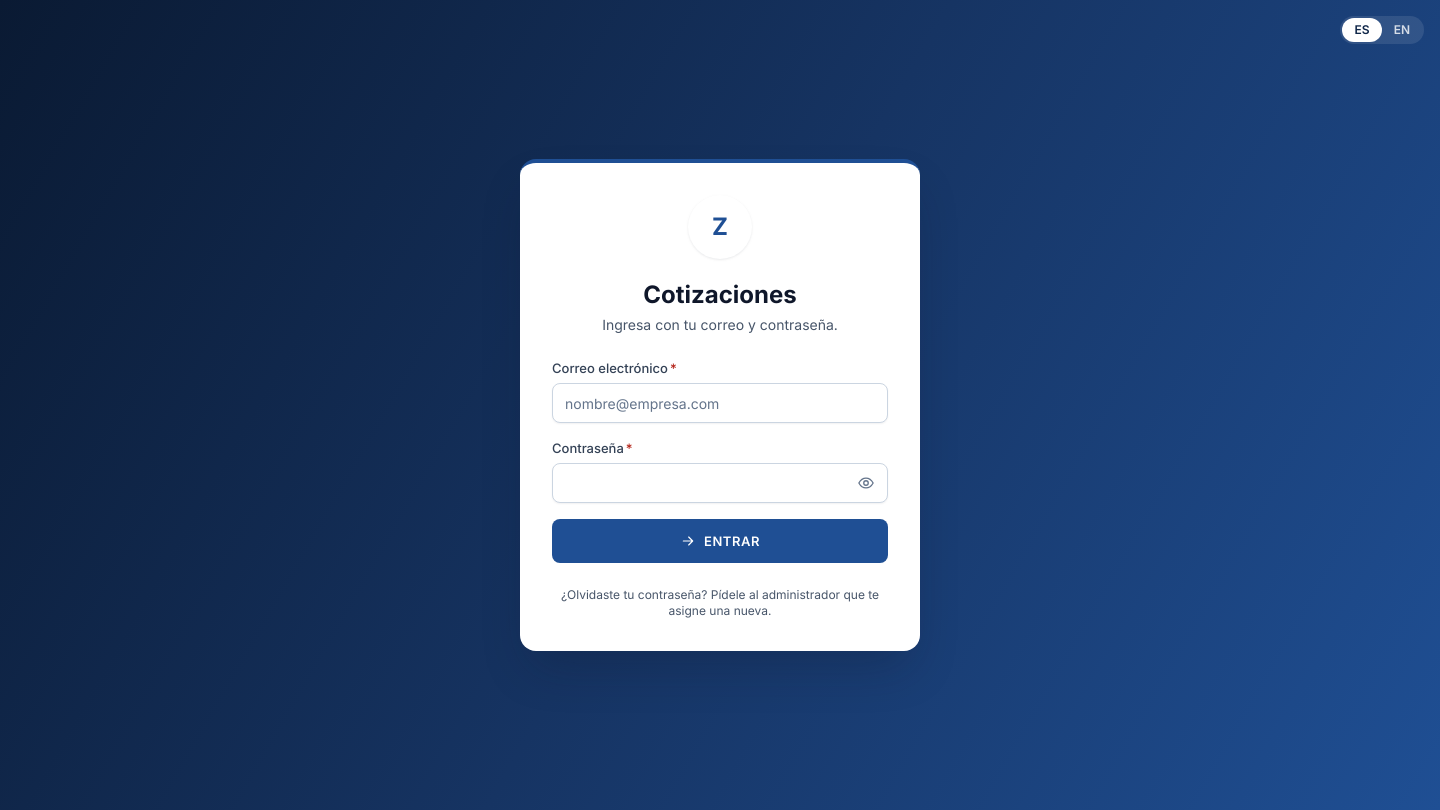
LoginPage › sends users with a temporary password to the change-password page
Type "ana@empresa.co" into the field labelled "Correo electrónico*".
click(720, 403); type("ana@empresa.co")  # box [552,383,888,423]
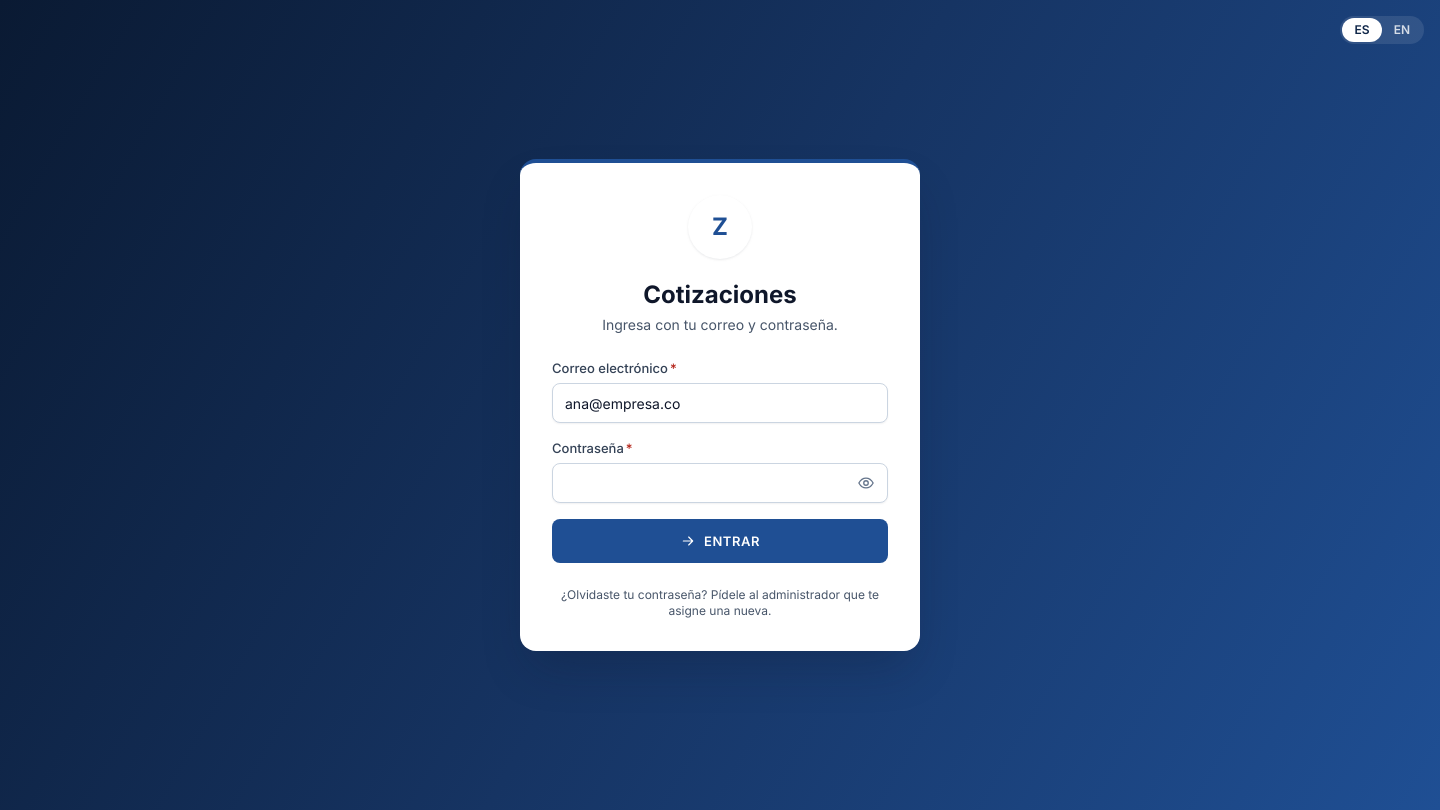
Type "temporal123" into the password field labelled "Contraseña*".
click(720, 483); type("temporal123")  # box [552,463,888,503]
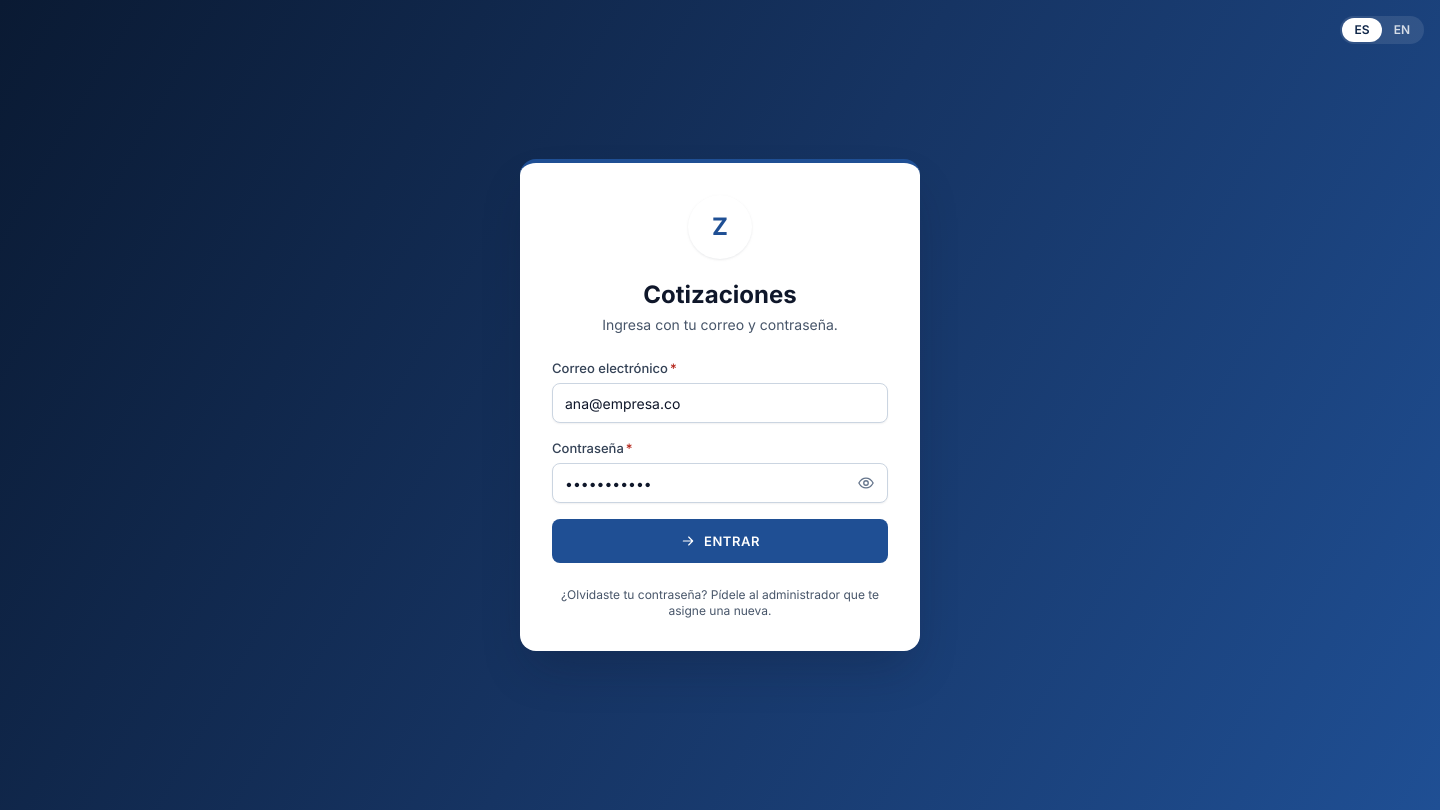
Click the button "Entrar".
click(720, 541)  # box [552,519,888,563]
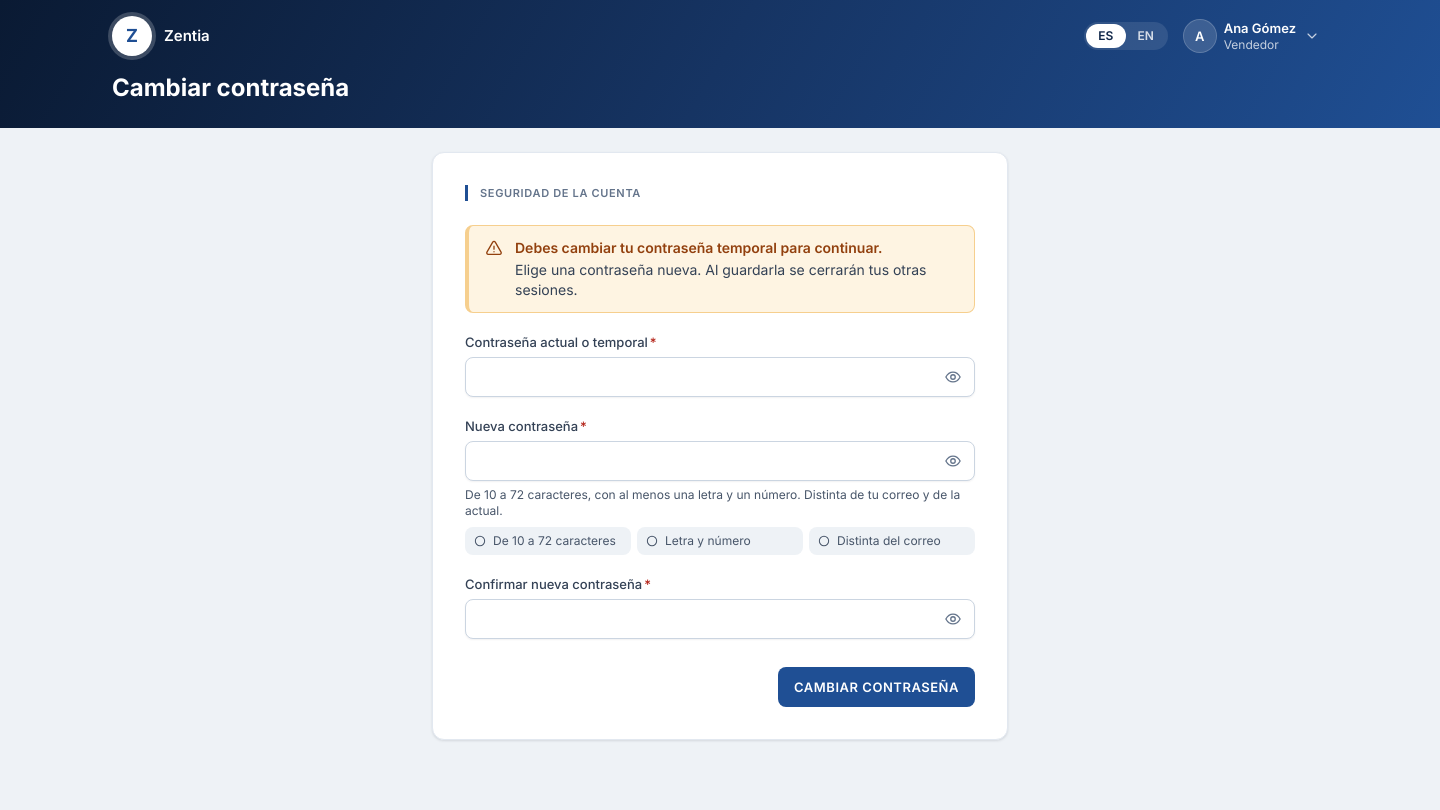
Result: the text "Debes cambiar tu contraseña temporal para continuar." is shown at [515,239,883,256]
